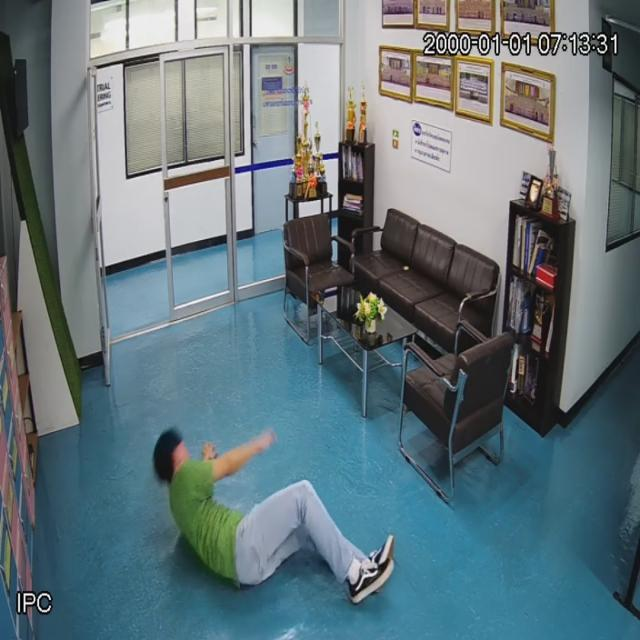fall: (154, 428, 394, 598)
